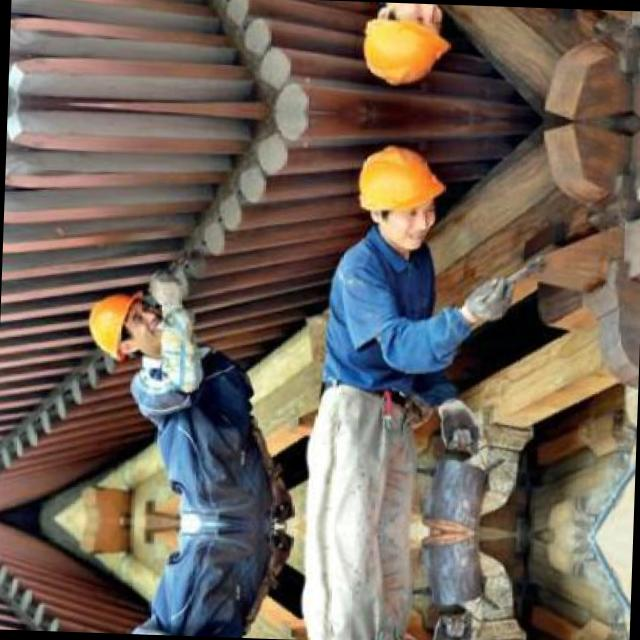helmet: (347, 134, 448, 254), (351, 1, 453, 97), (84, 280, 165, 360)
